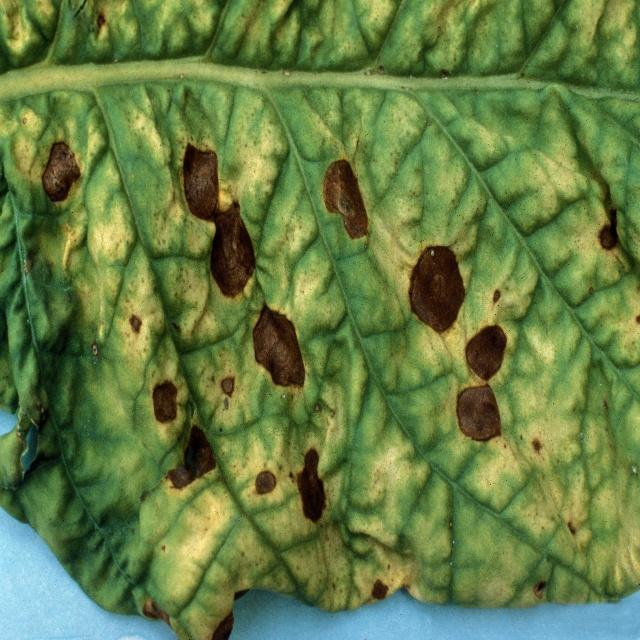leaf_spot: (341, 156, 621, 472), (100, 236, 335, 570), (28, 45, 222, 319)
